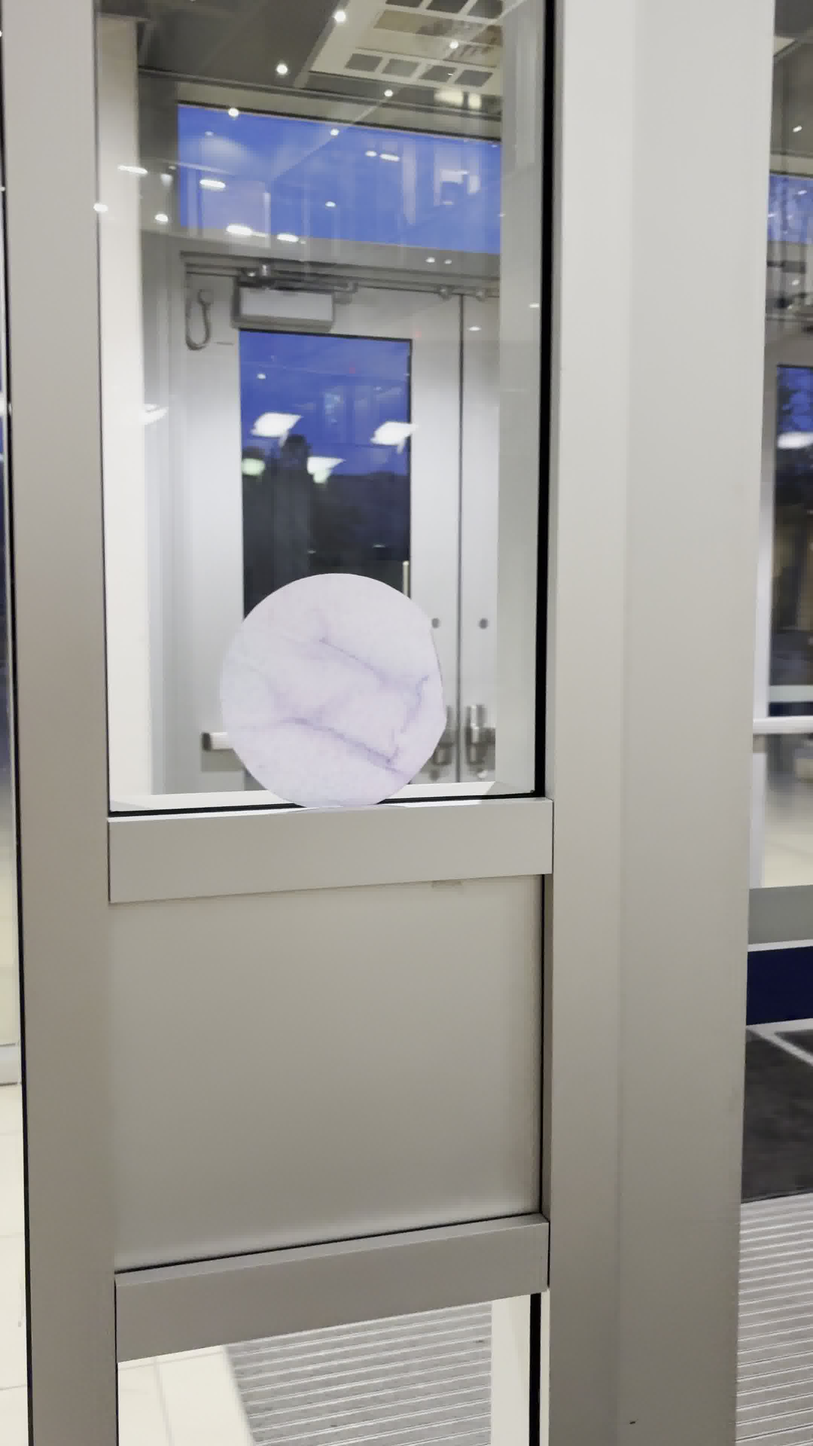Target: (218, 574, 448, 808)
